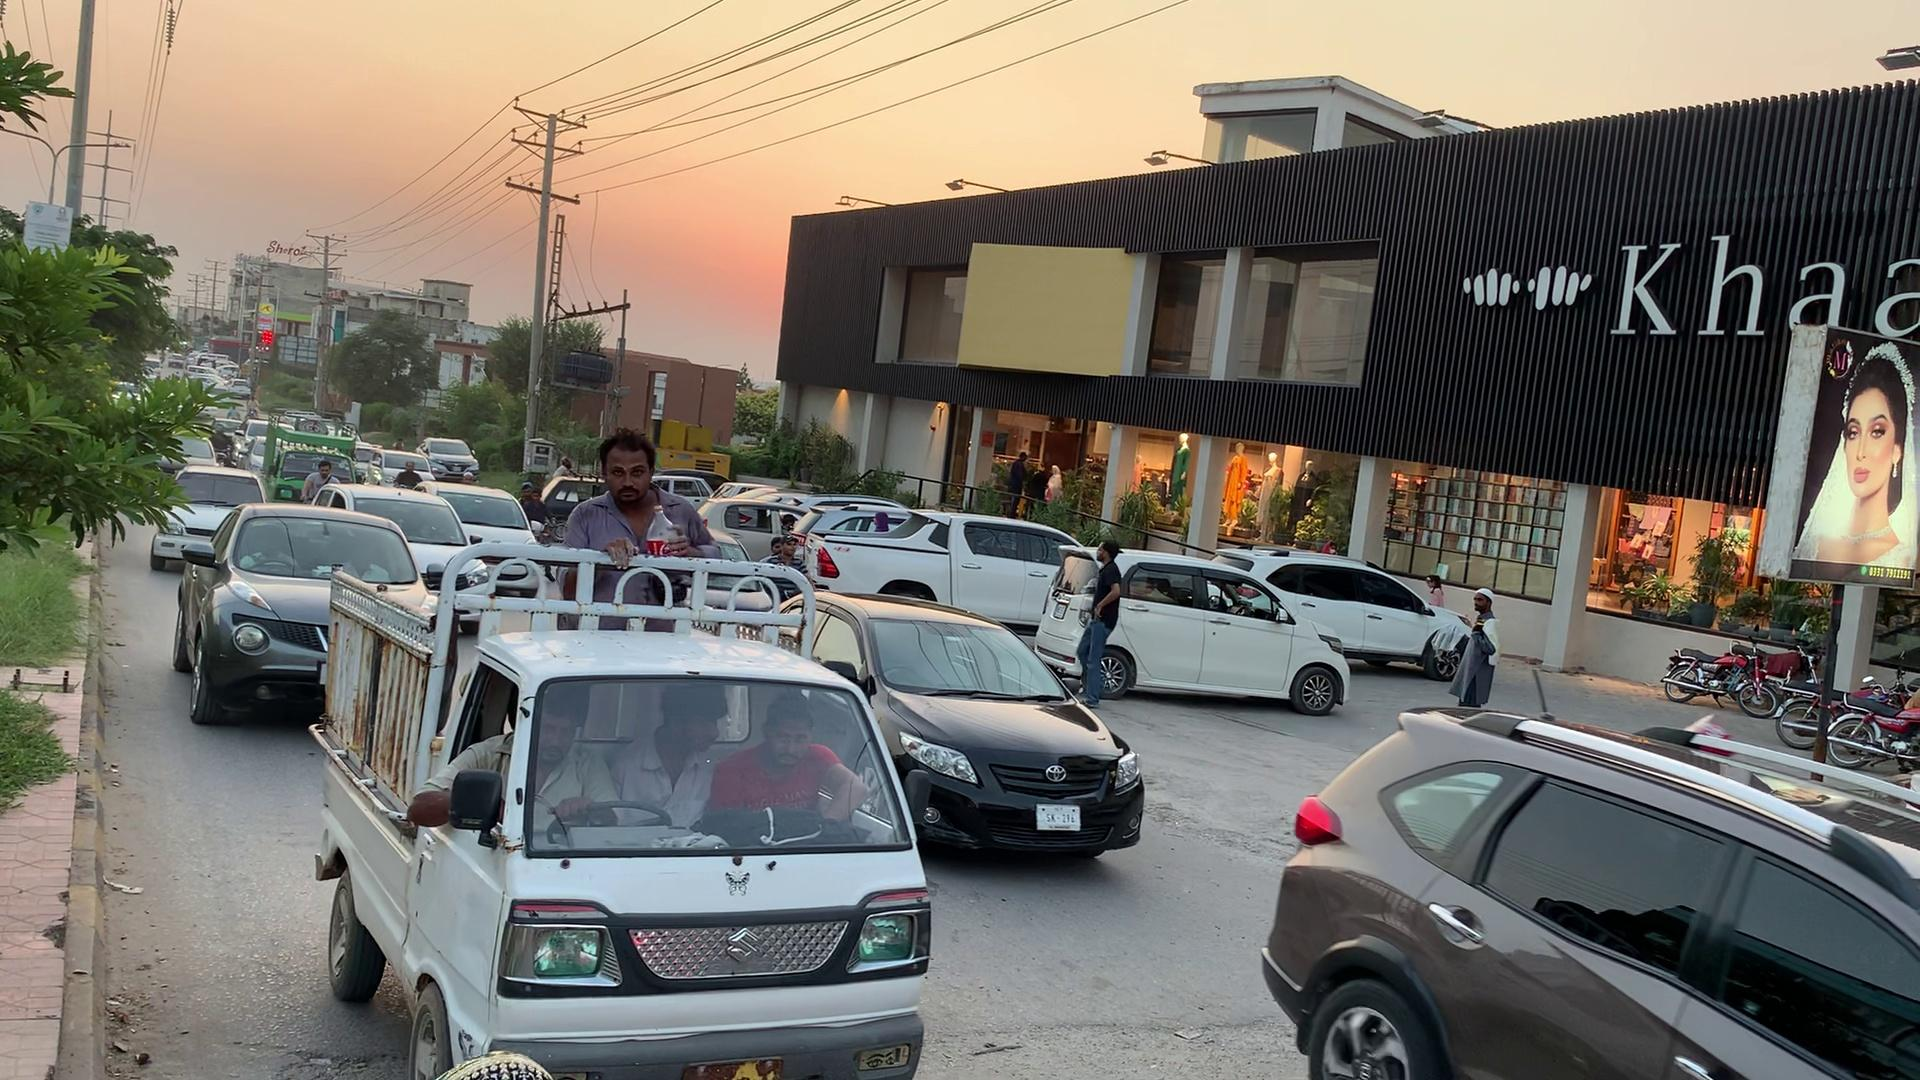windshield: (510, 670, 914, 864), (877, 611, 1071, 690)
